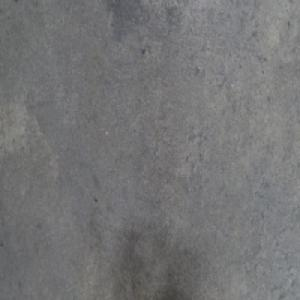AdjustableWrench: (164, 288, 196, 299)
